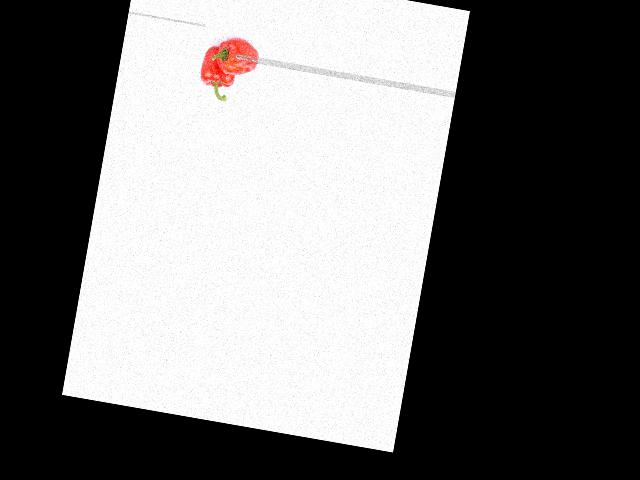bell_pepper: (210, 35, 266, 82)
